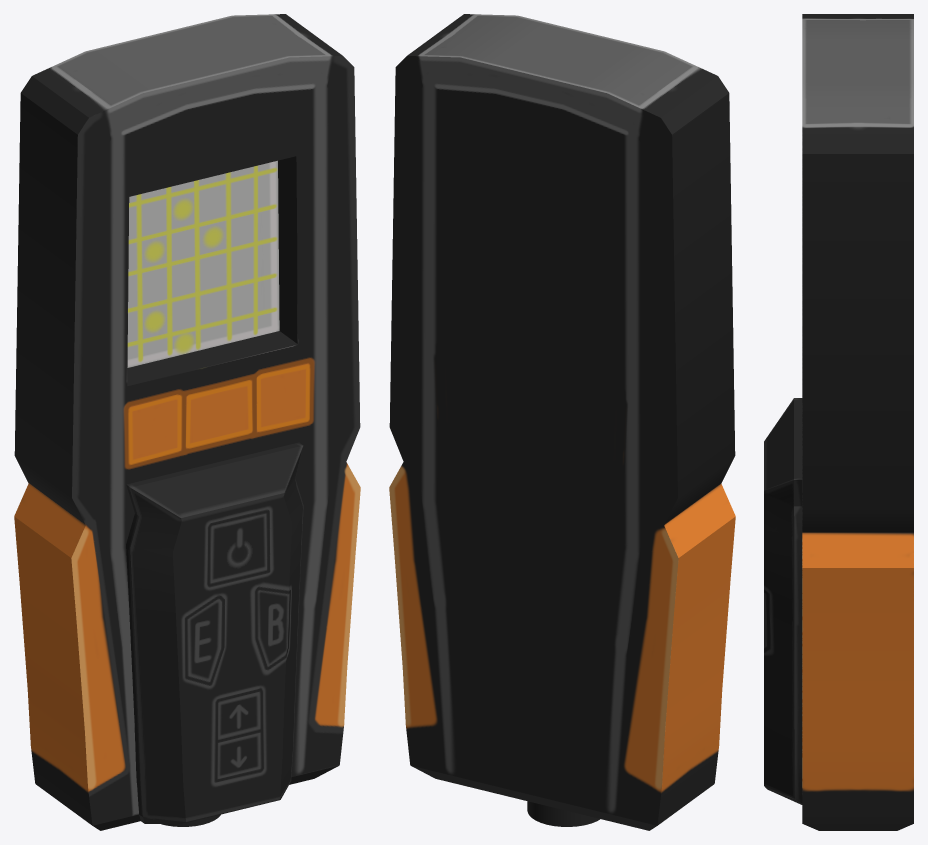
The model's file is SporesScanner_PremiumCivilian.fbx.
3 renders of one model, left to right at view 1: azimuth 30°, elevation 25°; view 2: azimuth 150°, elevation 25°; view 3: azimuth 270°, elevation 25°, orthographic. The views are drawn at different scales.
Parts seen in each view (by area): view 1: Cube.190; view 2: Cube.190; view 3: Cube.190.
Part boxes in pixels (left/top/right/bottom): Cube.190: left=14, top=14, right=360, bottom=830; Cube.190: left=389, top=14, right=735, bottom=830; Cube.190: left=764, top=14, right=913, bottom=830.
Size of the model in its own units: 0.0593 by 0.1477 by 0.0273.
